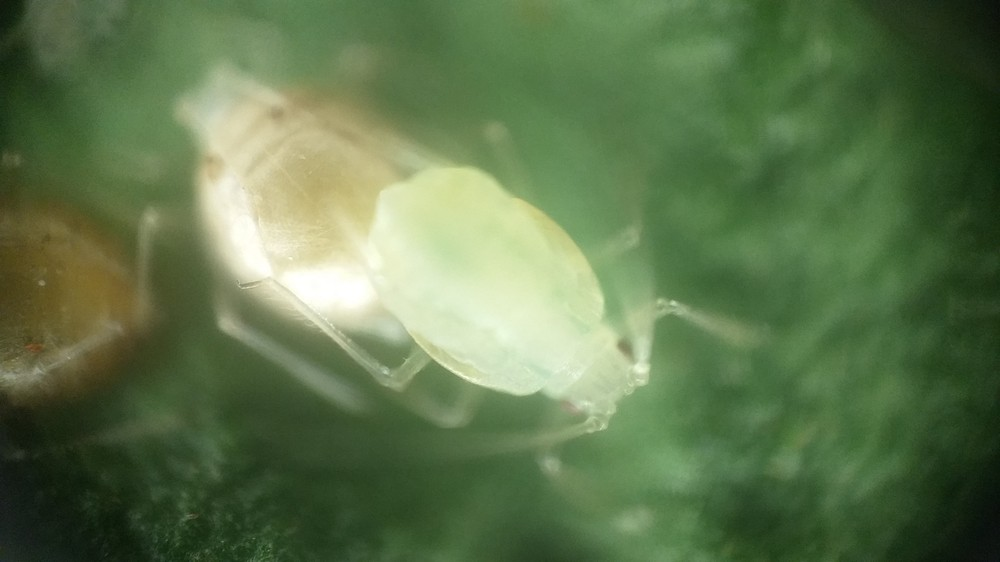Pulgon: (307, 112, 766, 503), (148, 46, 472, 430)
